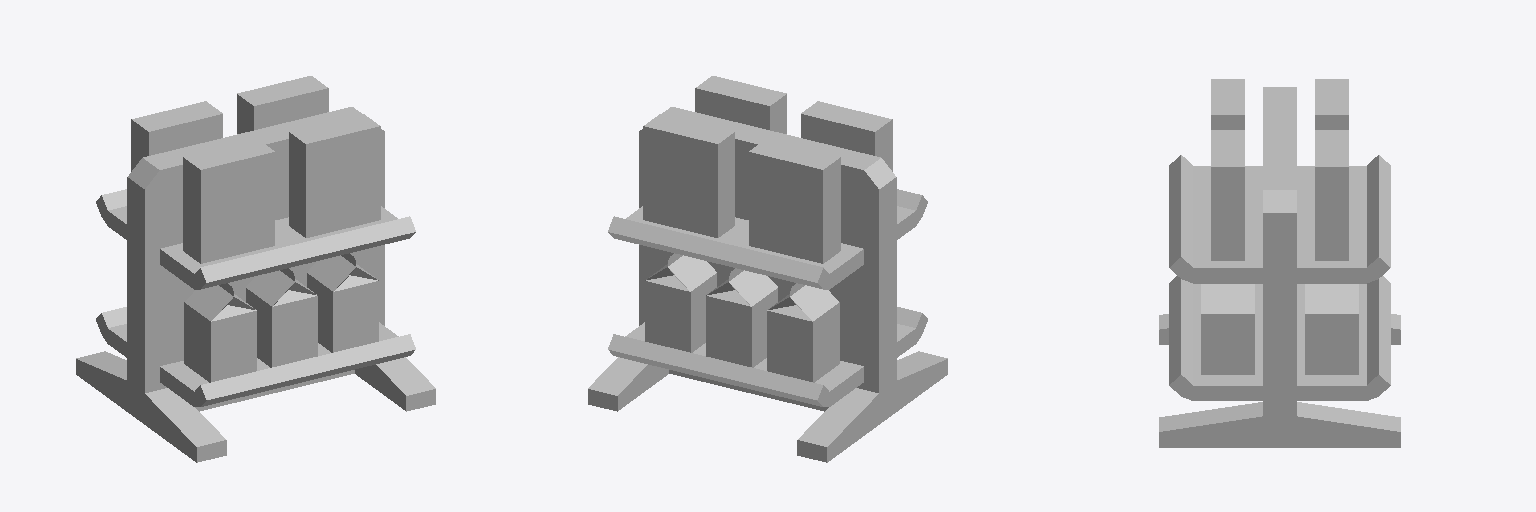
The model's file is shelf-boxes.obj.
The picture shows the model from 3 angles: view 1: azimuth 30°, elevation 25°; view 2: azimuth 150°, elevation 25°; view 3: azimuth 270°, elevation 25°; orthographic projection.
Visible parts, largest first — view 1: shelf-boxes, box, carton; view 2: shelf-boxes, box, carton; view 3: shelf-boxes, box, carton.
Boxes of the visible parts, x1,y1,x2,y2 form: shelf-boxes: [76, 107, 435, 462]; box: [131, 76, 380, 263]; carton: [184, 253, 378, 382]; shelf-boxes: [588, 107, 947, 462]; box: [643, 76, 892, 263]; carton: [645, 253, 839, 382]; shelf-boxes: [1159, 87, 1400, 447]; box: [1211, 79, 1348, 260]; carton: [1201, 284, 1358, 374].
Size of the model in its own units: 0.8 by 0.85 by 0.7.